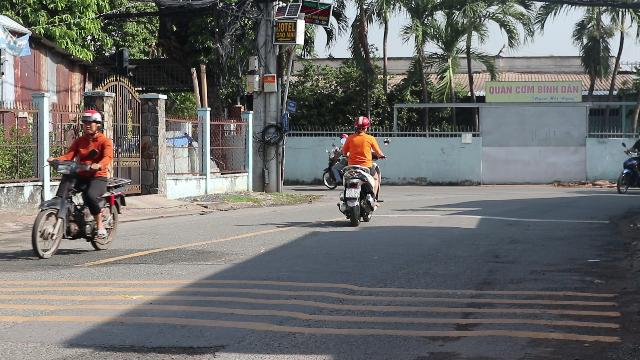helmet: (79, 111, 103, 135), (353, 116, 369, 132)
licenseplate: (345, 188, 359, 196)
motorcyclist: (28, 109, 128, 258), (336, 116, 384, 224)
